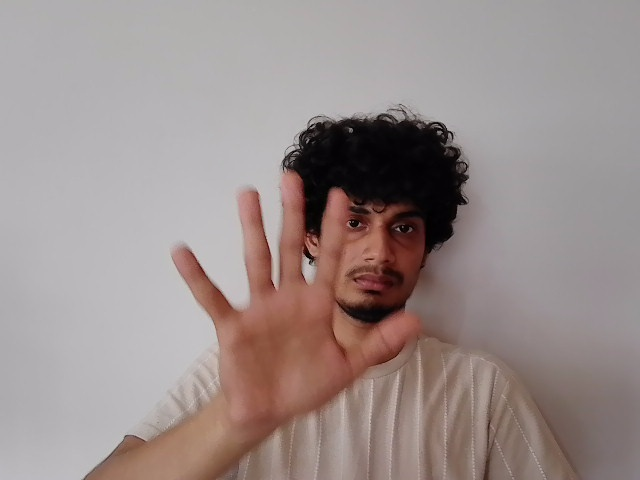goodbye: (172, 170, 427, 415)
